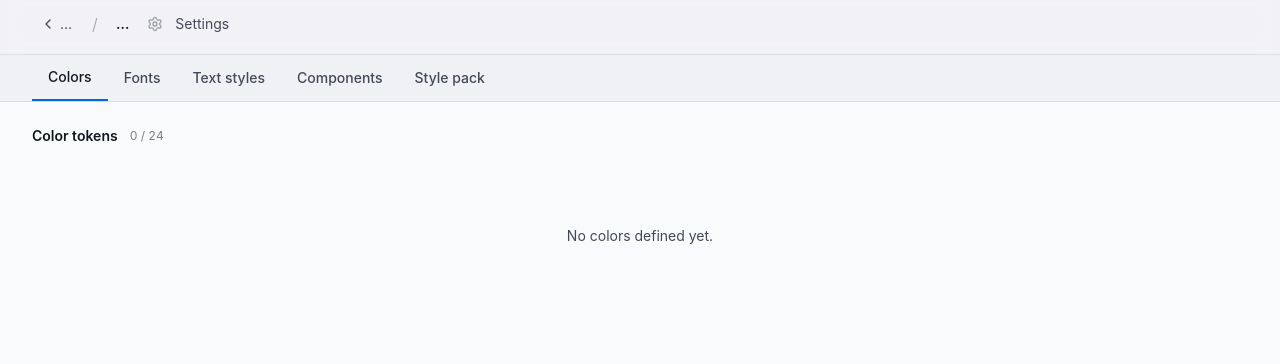
Test: FolderSettings page › renders component cards when components exist
Click the tab "Components" at (340, 78), box [281,55,398,101]
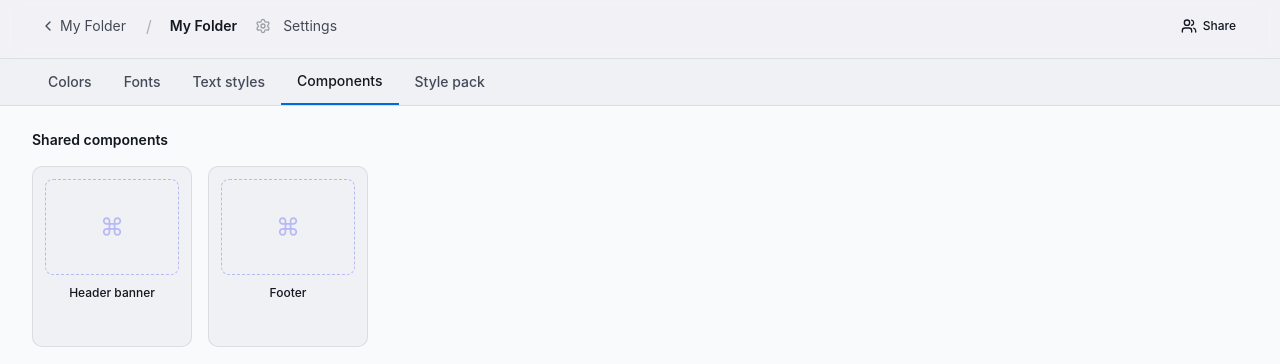
Expected: the number of list items with test id "component-card" is 2, [32,166,192,347]; [208,166,368,347]
Expected: the button "Header banner" is shown, [45,283,179,303]
Expected: the button "Footer" is shown, [221,283,355,303]
